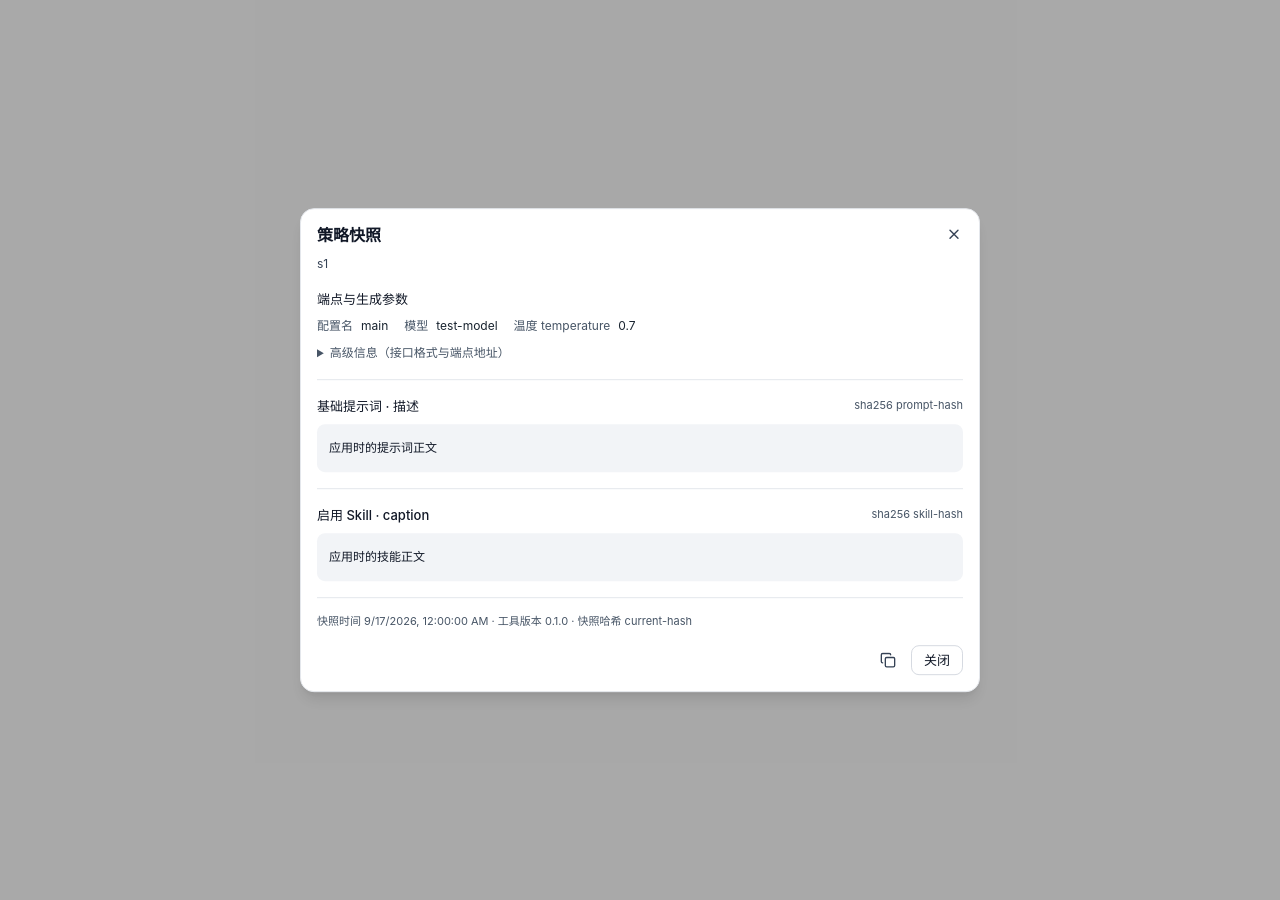
展示已保存的全文与参数，相同哈希不显示警告并可复制
Expected: the text "应用时的提示词正文" is shown, x1=317 y1=424 x2=963 y2=472
Expected: the text "应用时的技能正文" is shown, x1=317 y1=533 x2=963 y2=581
Click the button named "复制快照": (888, 660) x1=873 y1=645 x2=903 y2=675
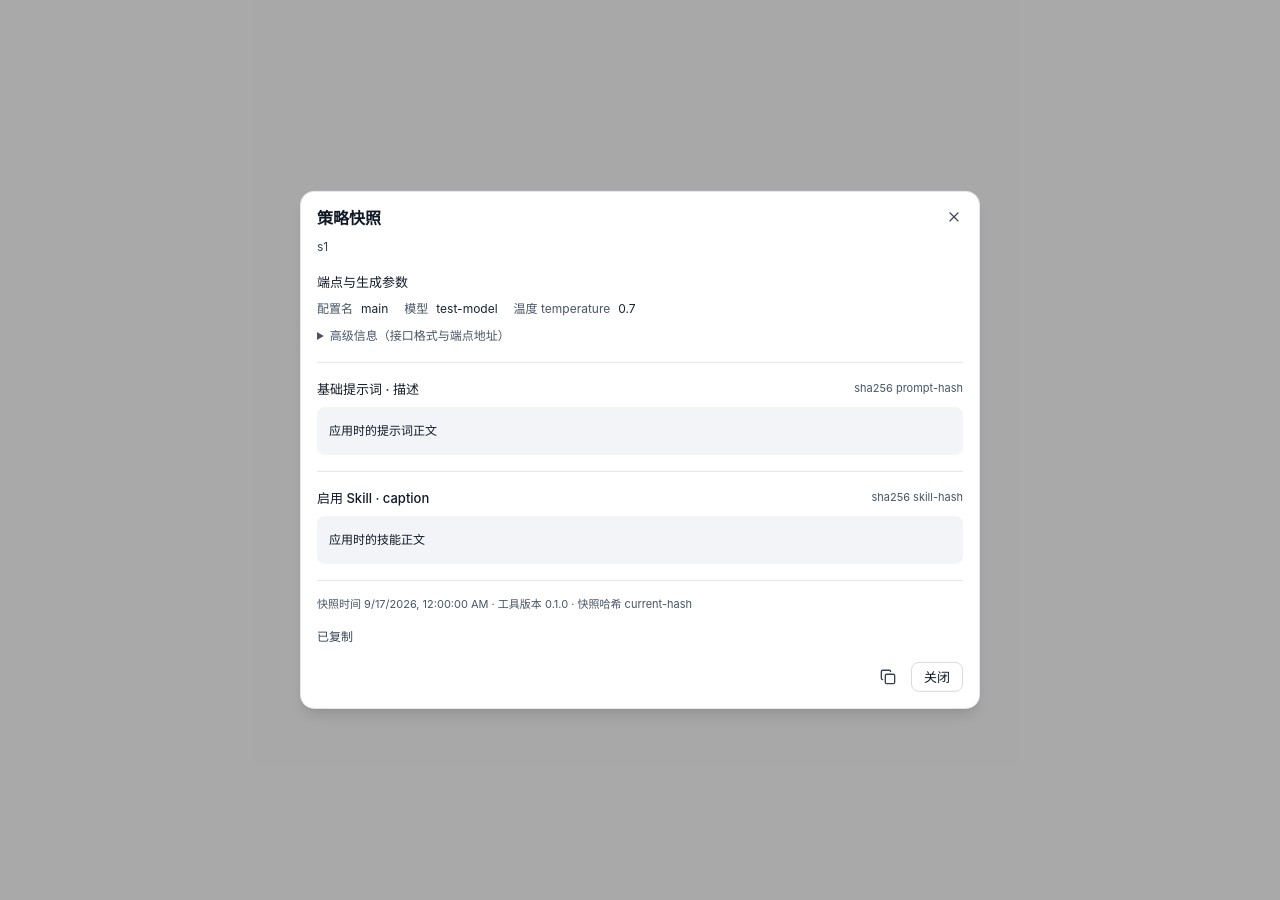
Now the message reads "已复制", box x1=317 y1=628 x2=353 y2=644
